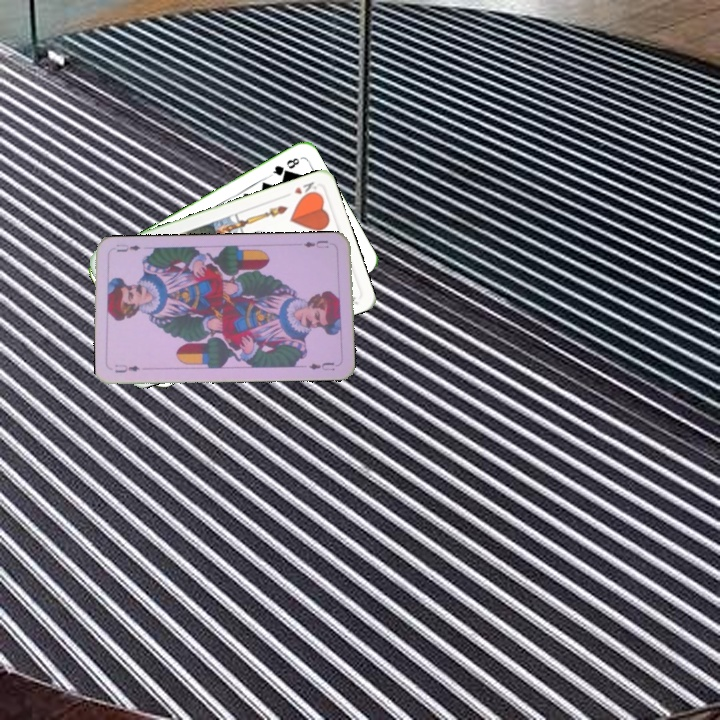EU: (111, 360, 142, 375), (300, 236, 331, 250)
G8: (266, 154, 302, 179)
HK: (290, 177, 320, 201)
